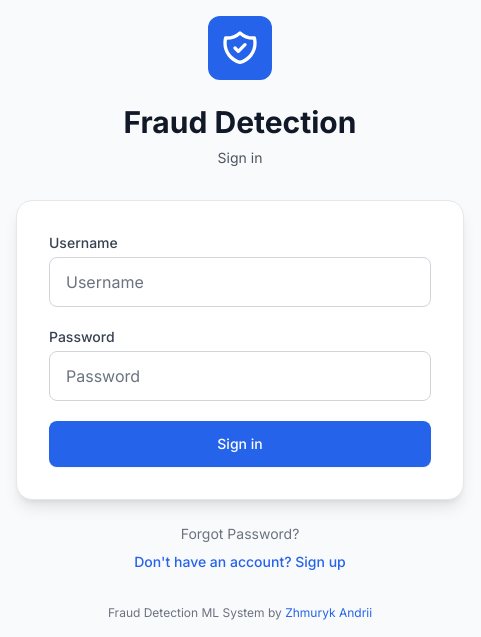
Scenario: Login Component › Login Flow › shows loading state during submission
Type "testuser" into the field labelled "Username".
click(240, 282); type("testuser")  # box 49,256 -> 431,306
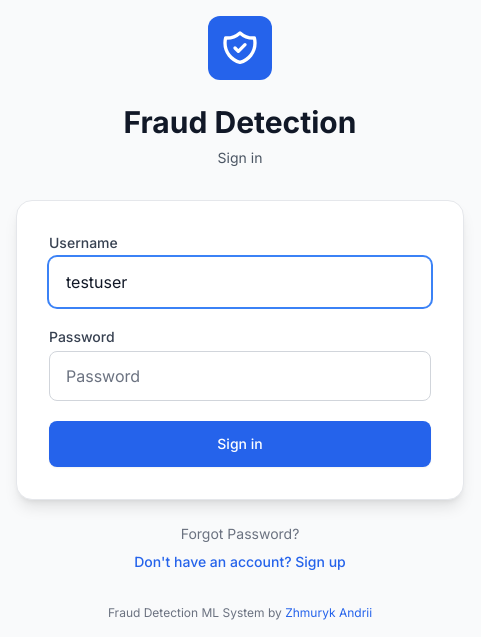
Type "password123" into the password field labelled "Password".
click(240, 376); type("password123")  # box 49,350 -> 431,400
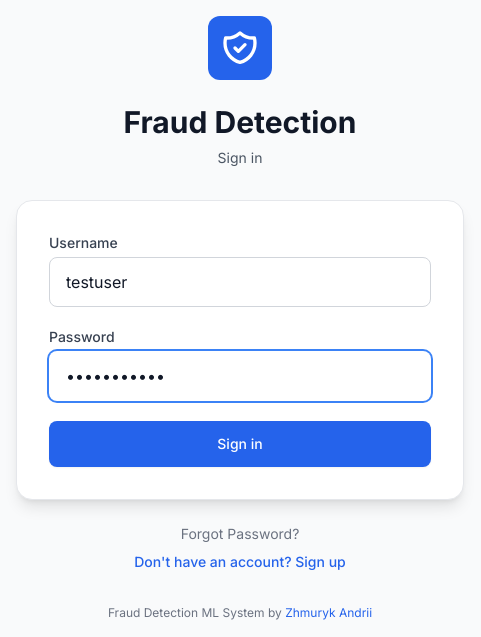
Click the button "Sign in".
click(240, 444)  # box 49,420 -> 431,466
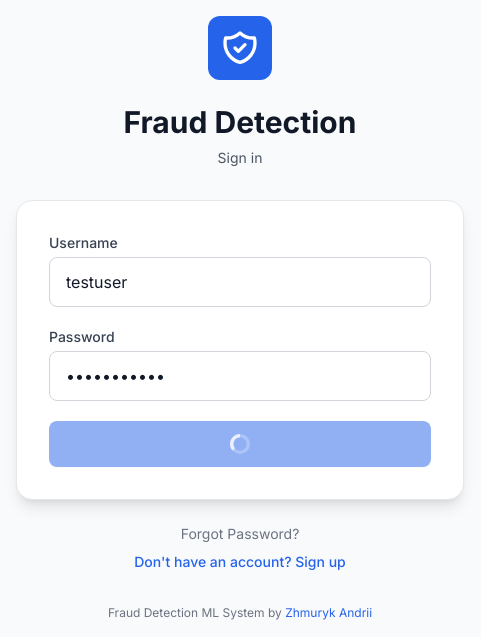
Check: the button named "sign in" is disabled, box 49,420 -> 431,466
